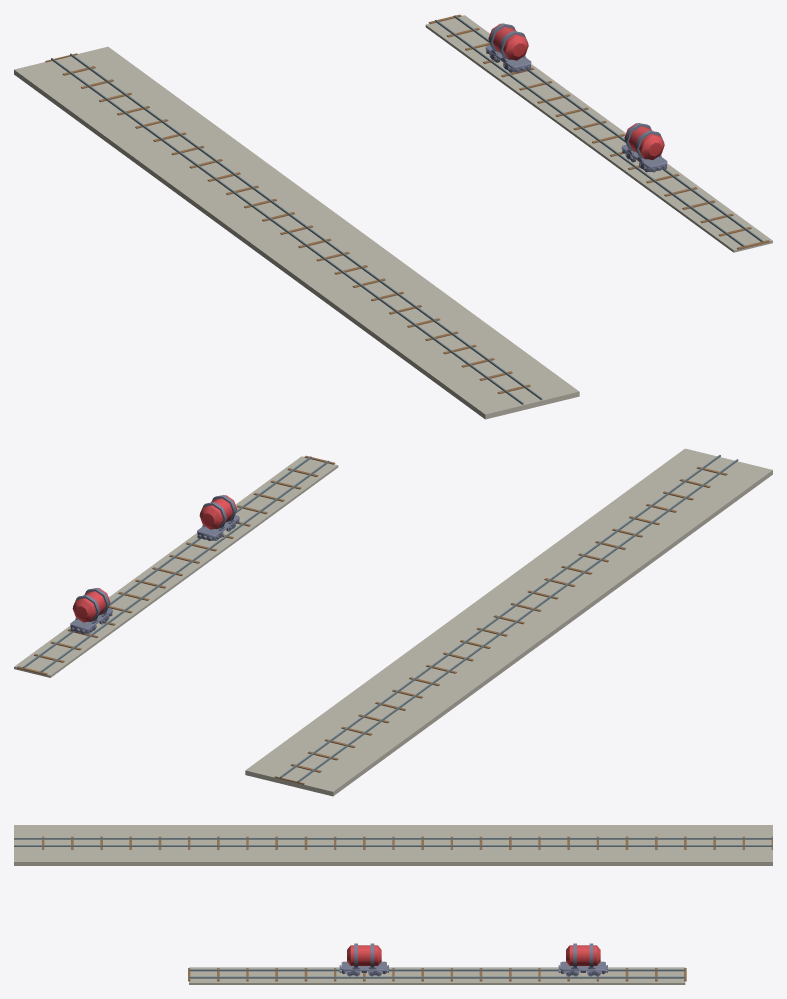
The model's file is railway-1-2.glb.
3 views of the same model, one above another, from view 1: azimuth 30°, elevation 25°; view 2: azimuth 150°, elevation 25°; view 3: azimuth 270°, elevation 25° (orthographic). The views are drawn at different scales.
Visible parts, largest first — view 1: railway-1-2; view 2: railway-1-2; view 3: railway-1-2.
Part boxes in pixels (bbox=[...]): railway-1-2: bbox=[14, 14, 772, 419]; railway-1-2: bbox=[14, 448, 772, 796]; railway-1-2: bbox=[14, 825, 772, 984].
Bounding box in the file's own units: 50.5 × 4.98 × 104.
9 materials, 6 textured.
